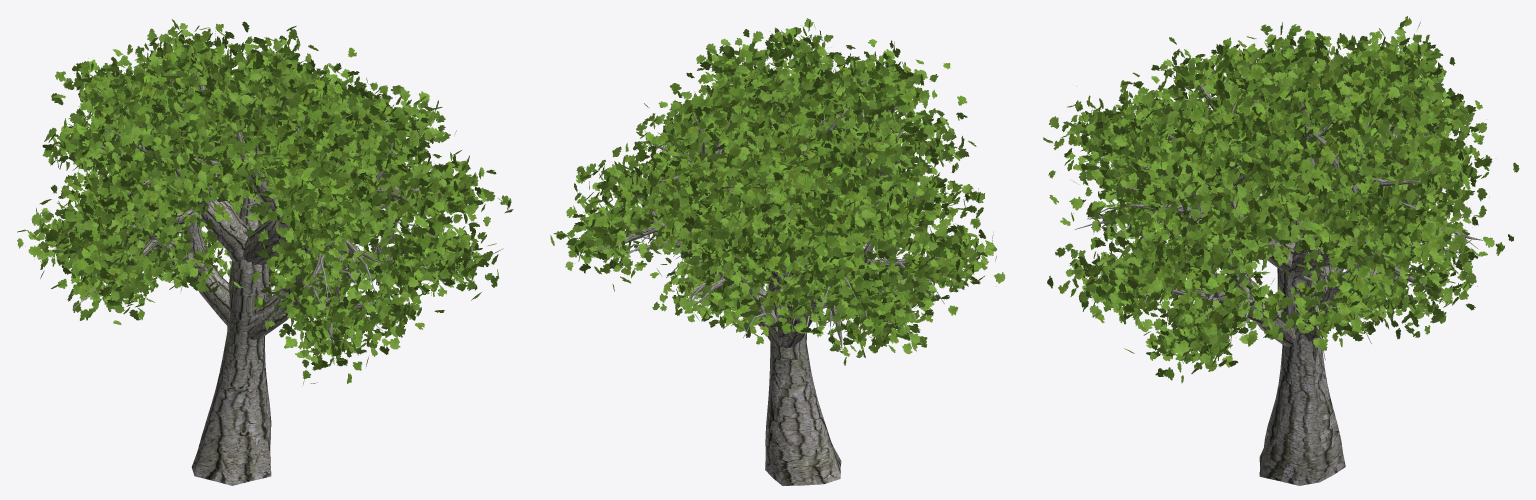
3 views of the same model, side by side, from view 1: azimuth 30°, elevation 25°; view 2: azimuth 150°, elevation 25°; view 3: azimuth 270°, elevation 25° (orthographic). The views are drawn at different scales.
Visible parts, largest first — view 1: Tilo foliage cards, Tilo_EasyTree_V022_Proof, Tilo V022 delicate lower branches; view 2: Tilo foliage cards, Tilo_EasyTree_V022_Proof, Tilo V022 delicate lower branches; view 3: Tilo foliage cards, Tilo_EasyTree_V022_Proof, Tilo V022 delicate lower branches.
Part boxes in pixels (x1,y1,x2,y2): Tilo foliage cards: [17, 19, 513, 384]; Tilo_EasyTree_V022_Proof: [68, 53, 420, 485]; Tilo V022 delicate lower branches: [40, 188, 435, 355]; Tilo foliage cards: [550, 18, 1005, 365]; Tilo_EasyTree_V022_Proof: [591, 57, 940, 485]; Tilo V022 delicate lower branches: [619, 171, 955, 343]; Tilo foliage cards: [1043, 16, 1519, 383]; Tilo_EasyTree_V022_Proof: [1089, 44, 1483, 485]; Tilo V022 delicate lower branches: [1074, 201, 1478, 360].
Bounding box in the file's own units: 6.08 × 5.75 × 5.92.
Materials: 2 (2 with a texture image).
